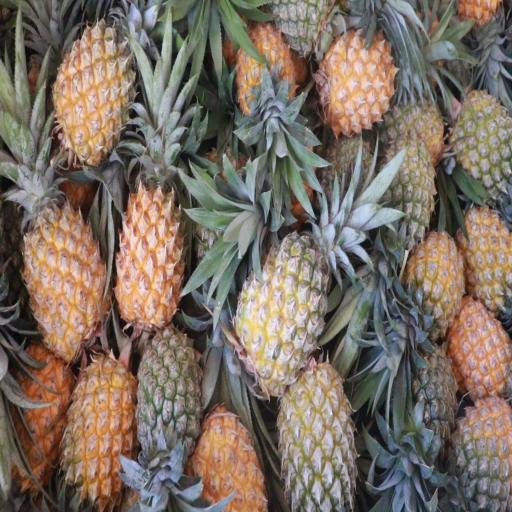------------------------------: (238, 239, 324, 384), (280, 359, 354, 512)
Pineapple - v8 v1: (26, 186, 106, 353), (62, 352, 136, 502), (55, 24, 131, 159), (116, 175, 184, 324), (5, 344, 67, 485), (197, 406, 263, 512), (323, 32, 394, 128), (236, 28, 298, 124), (455, 302, 510, 404), (412, 233, 464, 329), (463, 208, 512, 308)
